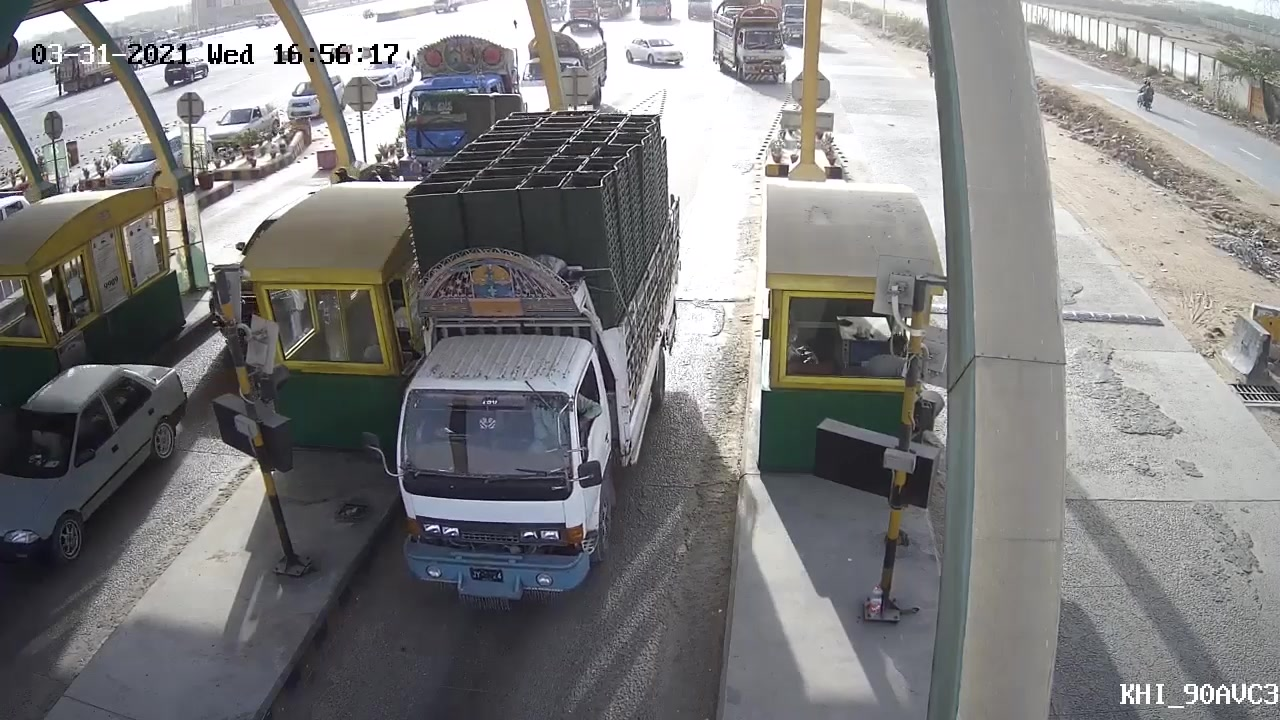F5: (381, 111, 725, 614)
